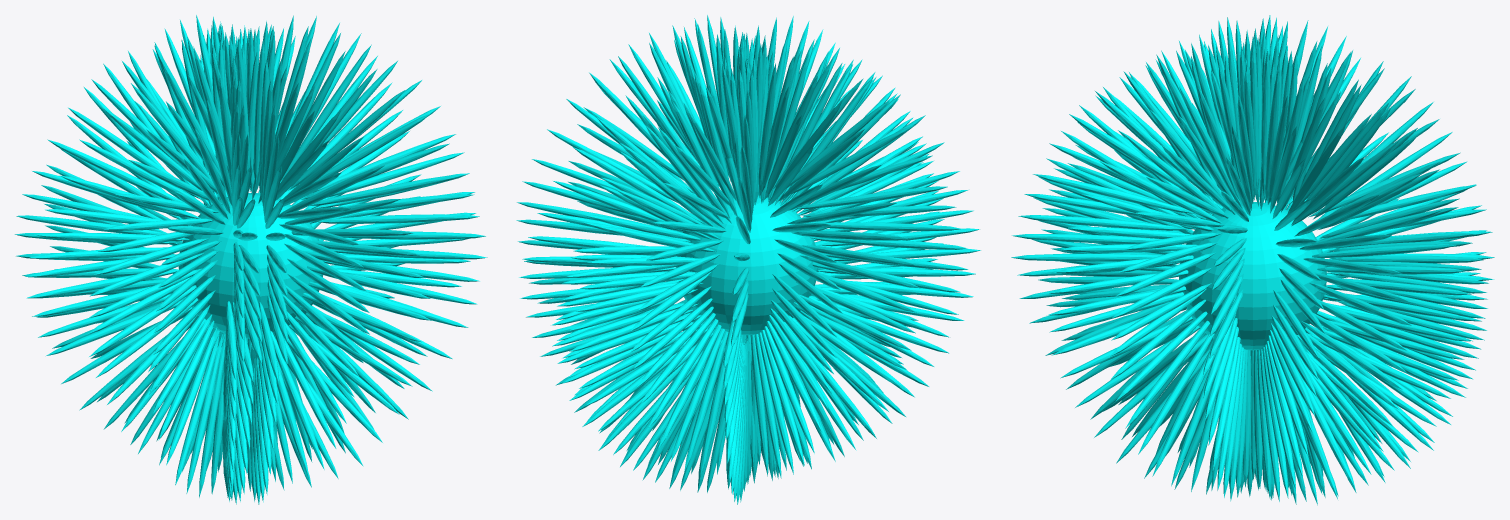
The model's file is fireworkteal.glb.
3 views of the same model, side by side, from view 1: azimuth 30°, elevation 25°; view 2: azimuth 150°, elevation 25°; view 3: azimuth 270°, elevation 25° (orthographic). The views are drawn at different scales.
Visible parts, largest first — view 1: sparks1; view 2: sparks1; view 3: sparks1.
Boxes of the visible parts, x1=… form: sparks1: x1=14, y1=15, x2=487, y2=504; sparks1: x1=516, y1=15, x2=980, y2=504; sparks1: x1=1011, y1=15, x2=1494, y2=505.
Bounding box in the file's own units: 11.21 × 12 × 11.44.
